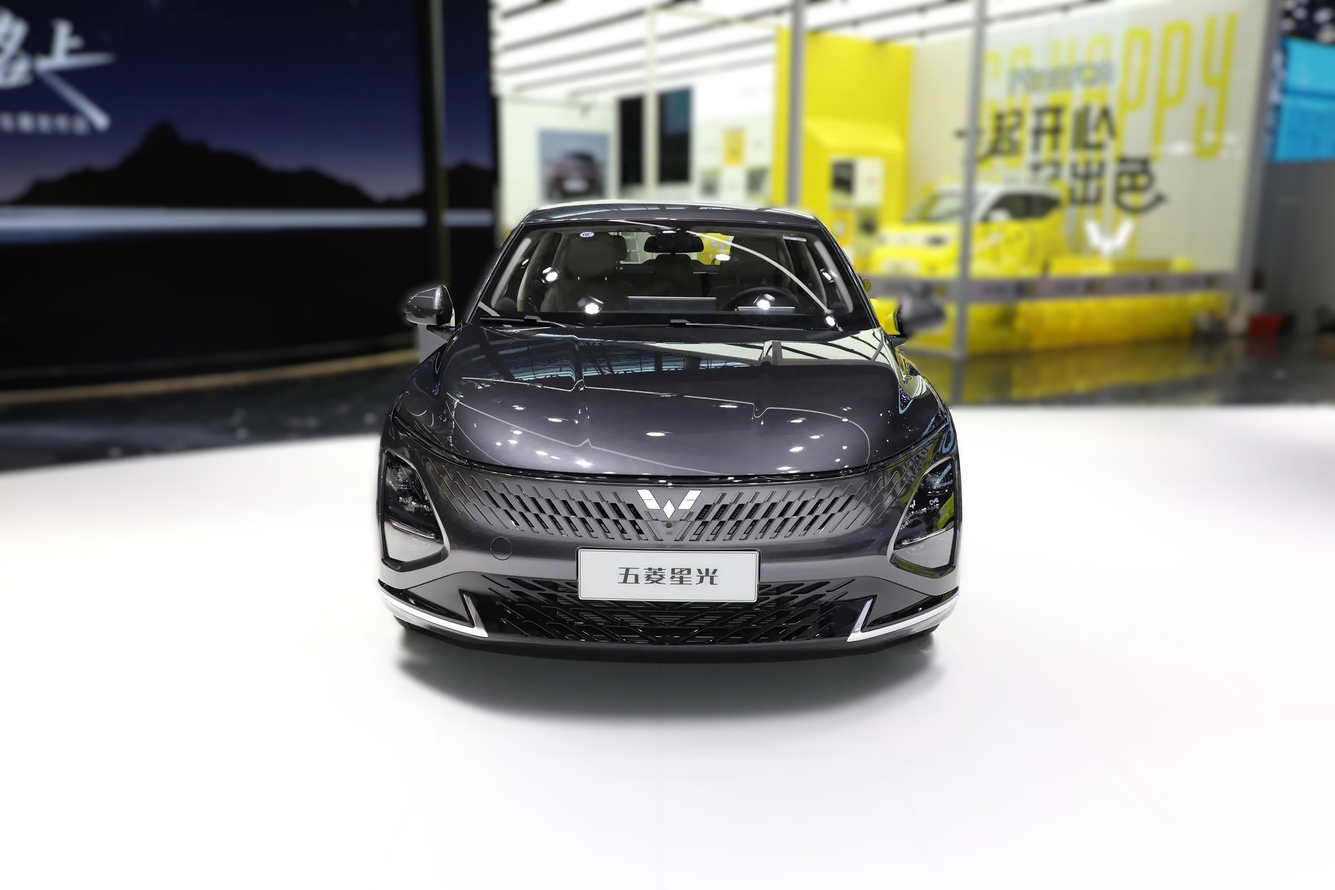SGMW: (637, 490, 701, 519)
